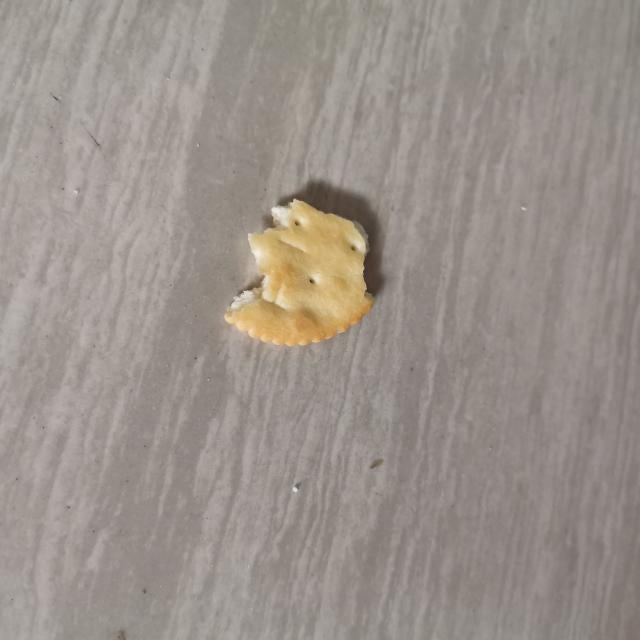Broken: (224, 197, 376, 347)
